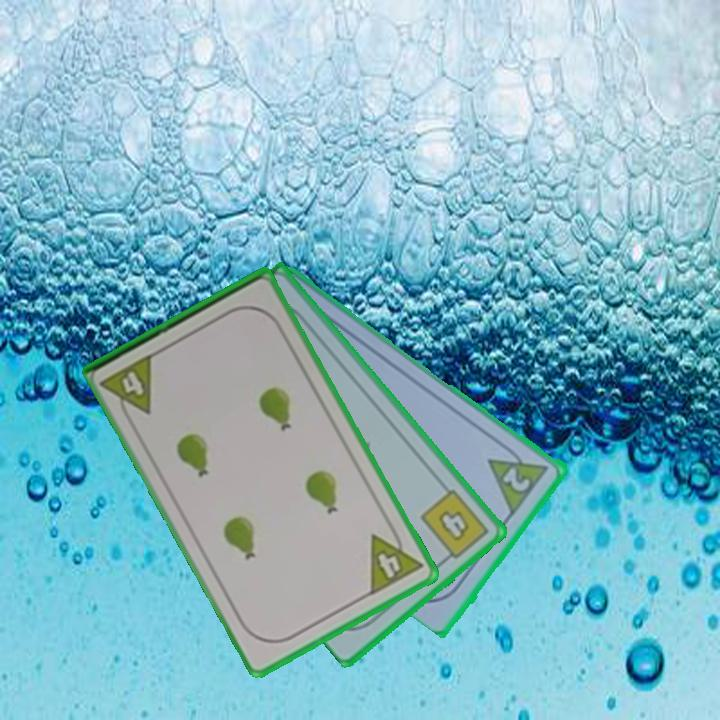2p: (499, 463, 534, 495)
4b: (416, 485, 492, 566)
4p: (366, 521, 426, 598), (98, 349, 158, 426)
